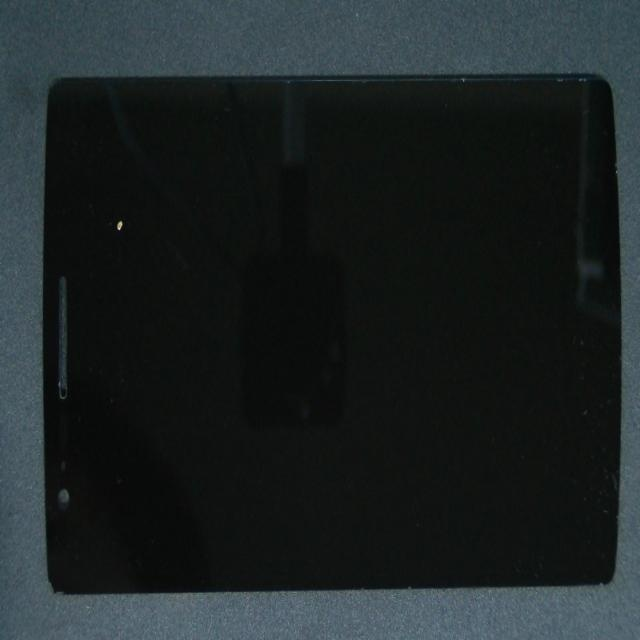stain: (61, 55, 173, 312)
